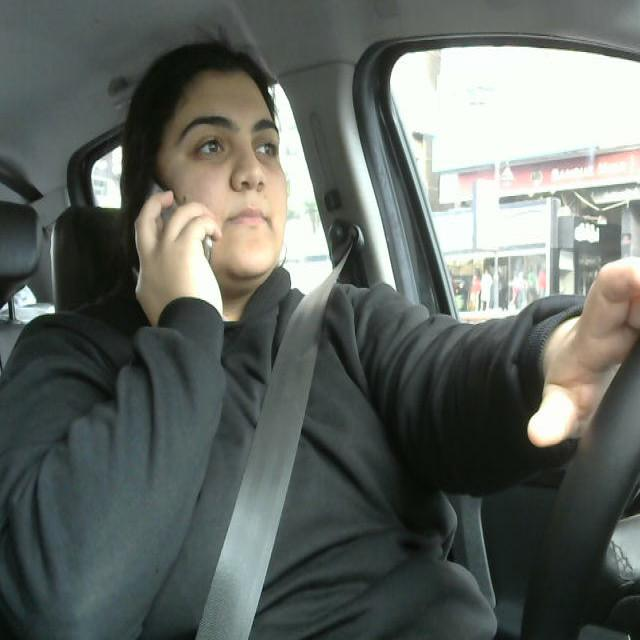mobile use: (133, 179, 215, 303)
